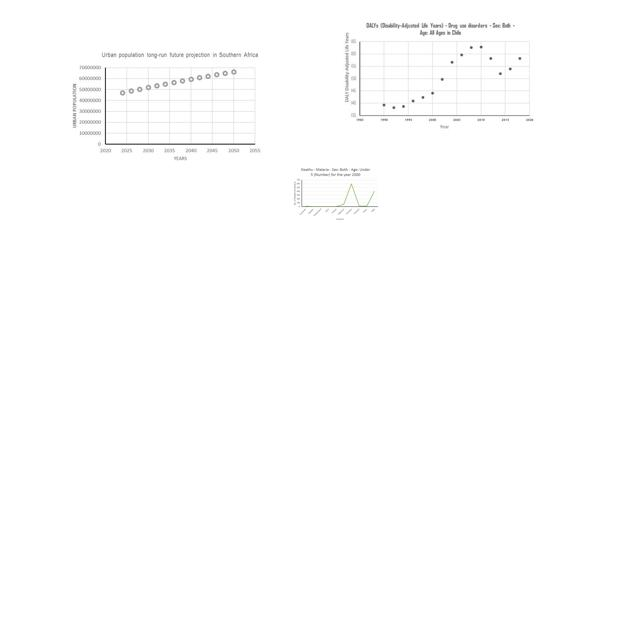Graph: (65, 49, 262, 167), (340, 19, 537, 133), (291, 166, 380, 222)
